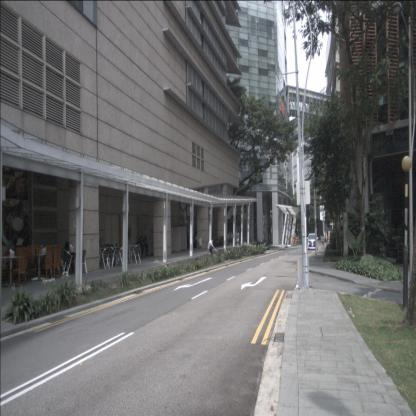human-pedestrian-adult: (207, 238, 217, 254), (320, 234, 324, 249)
vehicle-car: (307, 234, 318, 250)
